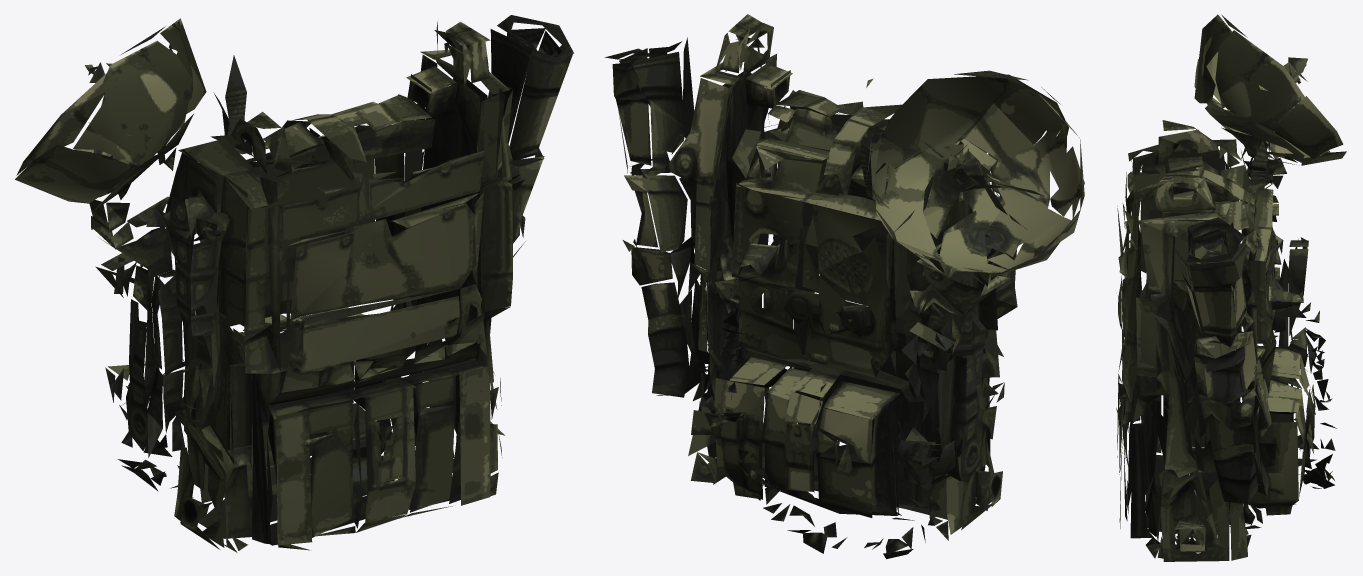
Rendered from mo_spotter.glb.
The picture shows the model from 3 angles, left to right: view 1: azimuth 30°, elevation 25°; view 2: azimuth 150°, elevation 25°; view 3: azimuth 270°, elevation 25°; orthographic projection. The views are drawn at different scales.
Parts seen in each view (by area): view 1: mo_spotter; view 2: mo_spotter; view 3: mo_spotter.
Part boxes in pixels (<box>): mo_spotter: <box>15,15,573,552</box>; mo_spotter: <box>604,14,1084,559</box>; mo_spotter: <box>1116,14,1346,561</box>.
Bounding box in the file's own units: 0.1991 × 0.1835 × 0.0926.
1 material, 1 textured.
